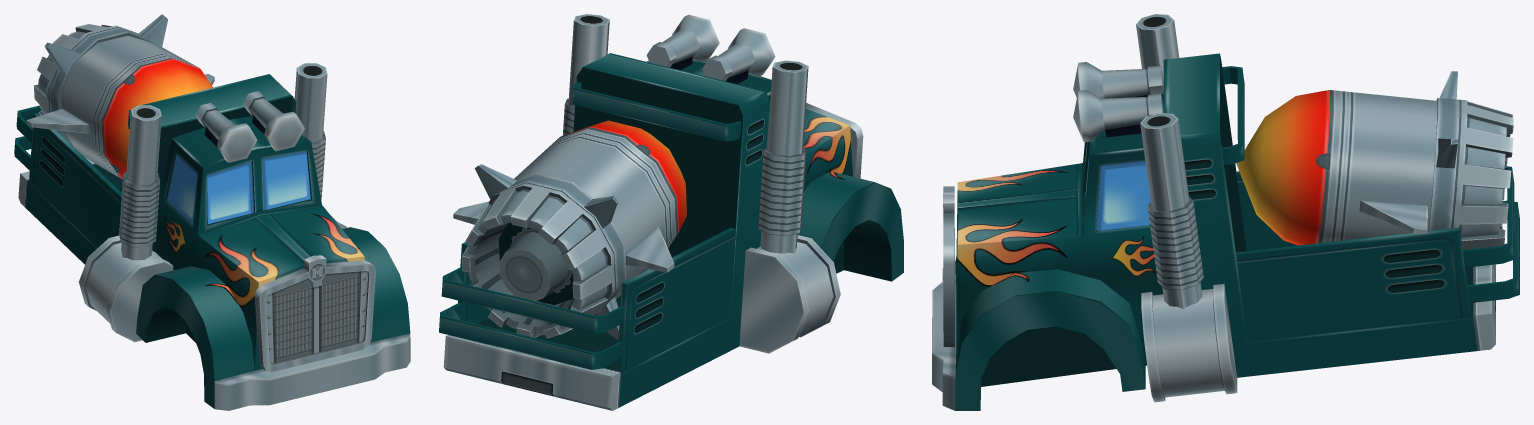
Rendered from mostertruck.FBX.
3 views of the same model, side by side, from view 1: azimuth 30°, elevation 25°; view 2: azimuth 150°, elevation 25°; view 3: azimuth 270°, elevation 25° (orthographic). The views are drawn at different scales.
Visible parts, largest first — view 1: Object023; view 2: Object023; view 3: Object023.
Boxes of the visible parts, x1,y1,x2,y2 form: Object023: [14, 14, 410, 410]; Object023: [439, 14, 903, 410]; Object023: [932, 14, 1519, 410].
Bounding box in the file's own units: 0.304 × 0.2758 × 0.5177.
